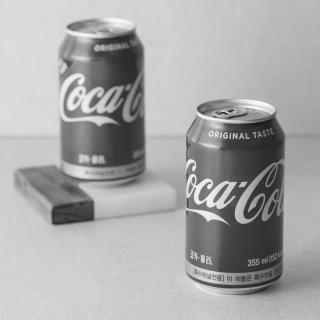alumunium_can: (183, 100, 291, 291)
